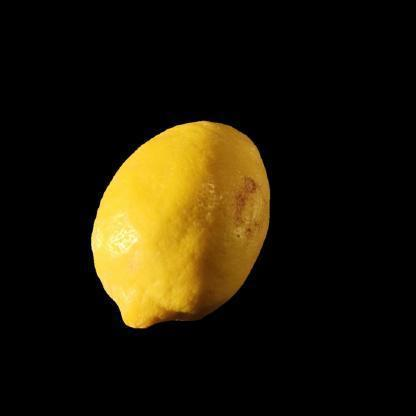lemon: (90, 120, 270, 329)
